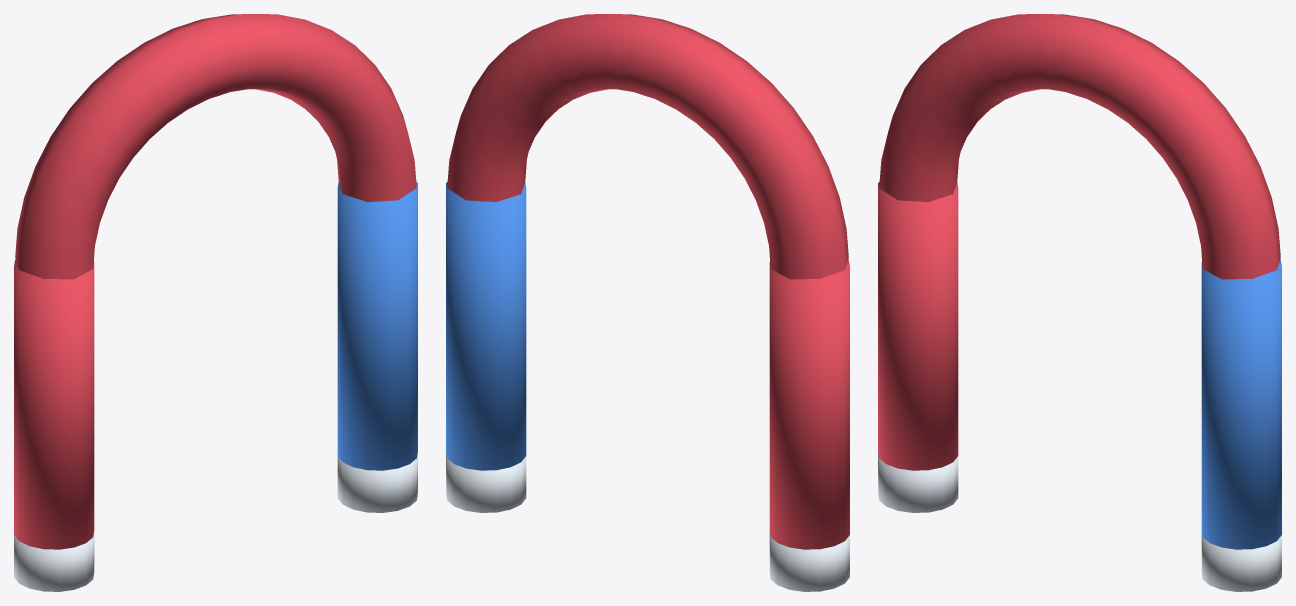
The model's file is horseshoe-magnet-lite.glb.
3 renders of one model, left to right at view 1: azimuth 30°, elevation 25°; view 2: azimuth 150°, elevation 25°; view 3: azimuth 330°, elevation 25°, orthographic.
Visible parts, largest first — view 1: Arch; view 2: Arch; view 3: Arch.
Boxes of the visible parts, bbox=[...] form: Arch: bbox=[14, 14, 417, 591]; Arch: bbox=[446, 14, 849, 591]; Arch: bbox=[878, 14, 1281, 591].
Bounding box in the file's own units: 1.46 × 1.83 × 0.26.
